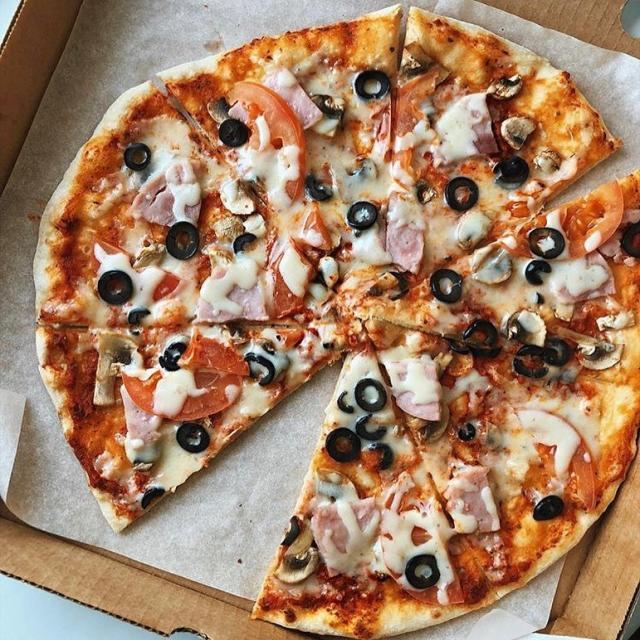black_olives: (462, 319, 505, 359), (164, 219, 200, 261), (326, 426, 363, 465), (404, 552, 442, 589), (96, 268, 134, 305), (240, 351, 276, 387), (353, 68, 391, 102), (429, 269, 465, 304), (513, 346, 550, 380), (493, 156, 530, 190), (528, 228, 568, 259), (444, 176, 478, 212), (355, 378, 389, 413), (176, 421, 211, 453), (346, 199, 378, 231), (305, 172, 336, 203), (220, 118, 250, 150), (355, 413, 389, 441), (123, 142, 153, 172), (158, 342, 189, 370), (533, 495, 566, 521), (369, 442, 395, 471), (278, 514, 300, 548), (543, 339, 570, 366), (622, 220, 640, 260), (141, 485, 166, 513), (526, 261, 554, 286), (383, 272, 408, 300), (231, 233, 258, 255), (127, 306, 152, 328), (447, 338, 470, 356), (457, 423, 477, 443), (338, 390, 354, 414), (534, 293, 546, 305)
mushrooms: (90, 333, 136, 410), (396, 42, 452, 90), (404, 402, 452, 444), (272, 545, 318, 585), (576, 337, 629, 371), (305, 94, 345, 139), (469, 246, 513, 285), (219, 178, 261, 218), (506, 310, 549, 348), (210, 216, 241, 266), (497, 116, 537, 150), (129, 240, 167, 270), (458, 214, 492, 247), (487, 75, 524, 98), (596, 310, 636, 330), (205, 94, 233, 122), (415, 176, 438, 205), (482, 421, 504, 449)
pizza: (34, 5, 640, 640)
tomatoes: (382, 470, 465, 610), (124, 336, 248, 423), (226, 81, 302, 206), (518, 178, 625, 258), (518, 406, 595, 512), (391, 72, 436, 192), (269, 234, 309, 316)
